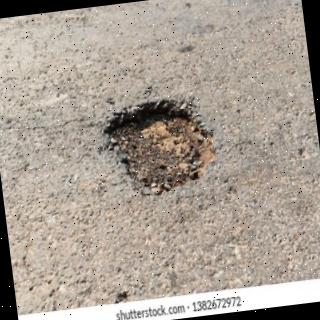pothole: (103, 99, 217, 196)
